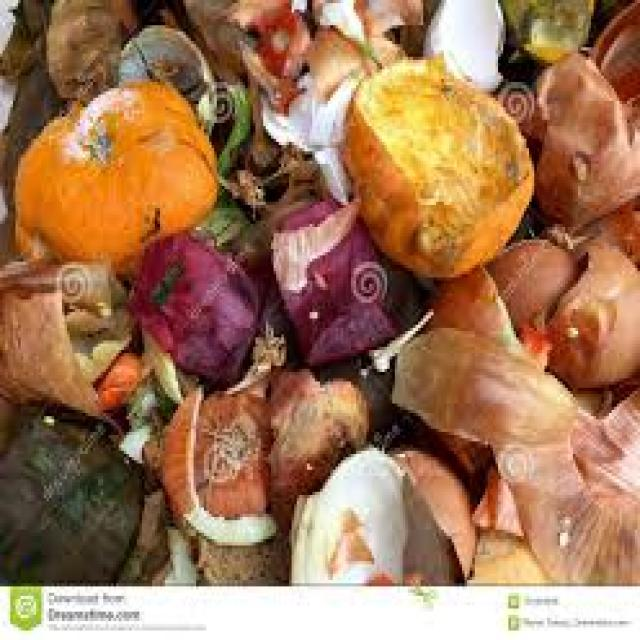organic waste: (390, 325, 637, 580), (340, 54, 532, 278), (13, 76, 214, 271), (0, 404, 137, 583), (268, 198, 411, 366), (514, 48, 638, 236), (0, 252, 132, 422), (142, 375, 273, 542), (127, 227, 256, 381), (261, 359, 369, 526), (532, 236, 638, 388), (289, 441, 403, 580), (0, 0, 59, 252), (114, 19, 214, 142), (390, 445, 475, 583), (258, 76, 351, 196), (263, 82, 351, 199), (42, 0, 140, 98), (194, 384, 268, 510), (485, 240, 573, 331), (420, 0, 503, 91), (145, 0, 240, 73), (418, 268, 511, 334), (111, 479, 168, 580), (180, 0, 256, 73), (498, 0, 591, 57), (588, 0, 638, 104), (302, 26, 374, 91), (235, 35, 299, 107), (467, 527, 552, 580), (253, 6, 310, 79), (359, 0, 423, 57), (214, 85, 253, 170), (268, 142, 322, 202), (580, 208, 638, 262), (202, 192, 256, 243), (90, 353, 142, 397), (160, 520, 196, 577), (224, 0, 291, 28), (315, 0, 361, 35), (227, 161, 261, 205), (570, 381, 609, 413)
